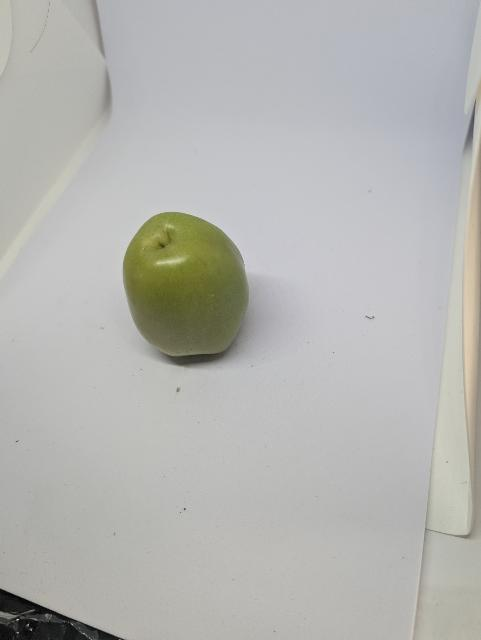green: (114, 202, 261, 375)
